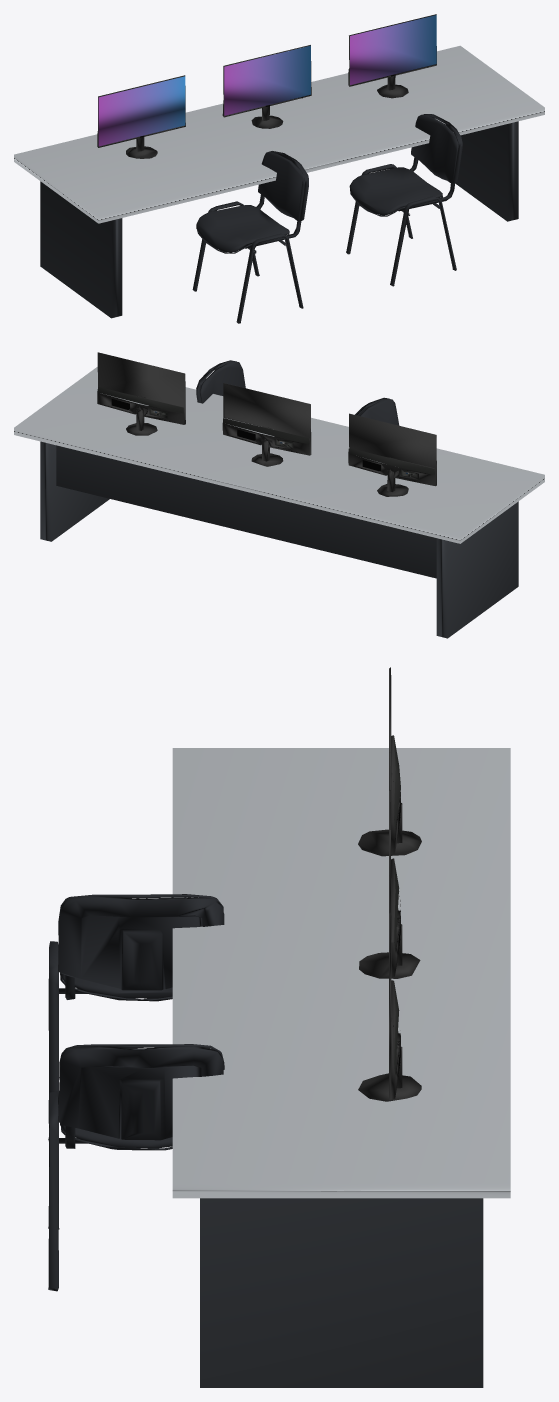
The model's file is scada-desk.glb.
3 renders of one model, top to bottom at view 1: azimuth 30°, elevation 25°; view 2: azimuth 150°, elevation 25°; view 3: azimuth 270°, elevation 25°, orthographic. The views are drawn at different scales.
Parts seen in each view (by area): view 1: geometry_0; view 2: geometry_0; view 3: geometry_0.
Boxes of the visible parts, x1=… form: geometry_0: x1=14, y1=14, x2=544, y2=323; geometry_0: x1=14, y1=352, x2=544, y2=638; geometry_0: x1=48, y1=667, x2=510, y2=1387.
Size of the model in its own units: 3.2 by 1.22 by 1.44.
